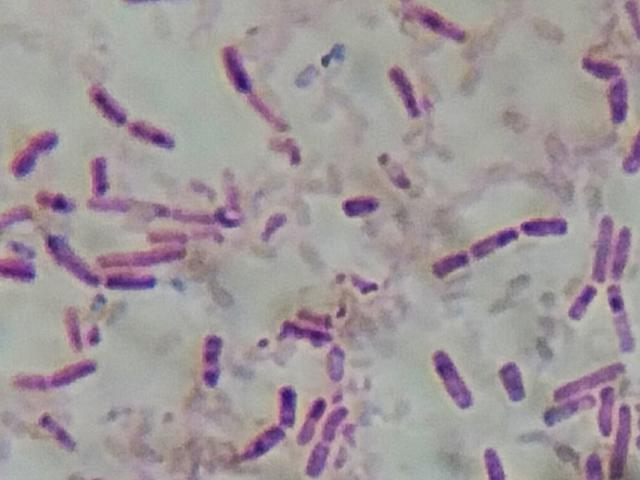E. coli: (83, 190, 242, 229), (432, 348, 483, 410), (588, 48, 630, 122), (387, 61, 432, 125), (409, 4, 473, 47), (14, 355, 98, 387), (102, 240, 187, 270), (556, 360, 624, 396), (46, 237, 96, 285), (9, 129, 60, 176), (310, 404, 344, 474), (82, 82, 129, 127), (199, 330, 232, 394), (369, 147, 413, 192), (607, 286, 635, 353), (37, 412, 75, 460), (223, 40, 255, 95), (522, 209, 575, 241), (126, 119, 178, 150), (470, 221, 517, 254), (236, 421, 280, 456), (615, 406, 637, 476), (299, 389, 327, 443), (429, 248, 469, 285), (497, 360, 526, 411), (590, 205, 609, 281), (270, 377, 298, 426), (613, 214, 632, 286), (104, 268, 160, 292), (568, 279, 595, 328), (619, 119, 640, 178), (594, 382, 618, 433), (65, 314, 96, 352), (544, 398, 595, 421), (574, 441, 603, 480), (0, 252, 36, 279), (342, 191, 381, 215), (38, 190, 75, 214), (0, 202, 31, 229), (87, 154, 110, 187)
